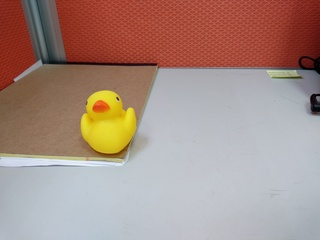duck: (77, 88, 141, 159)
